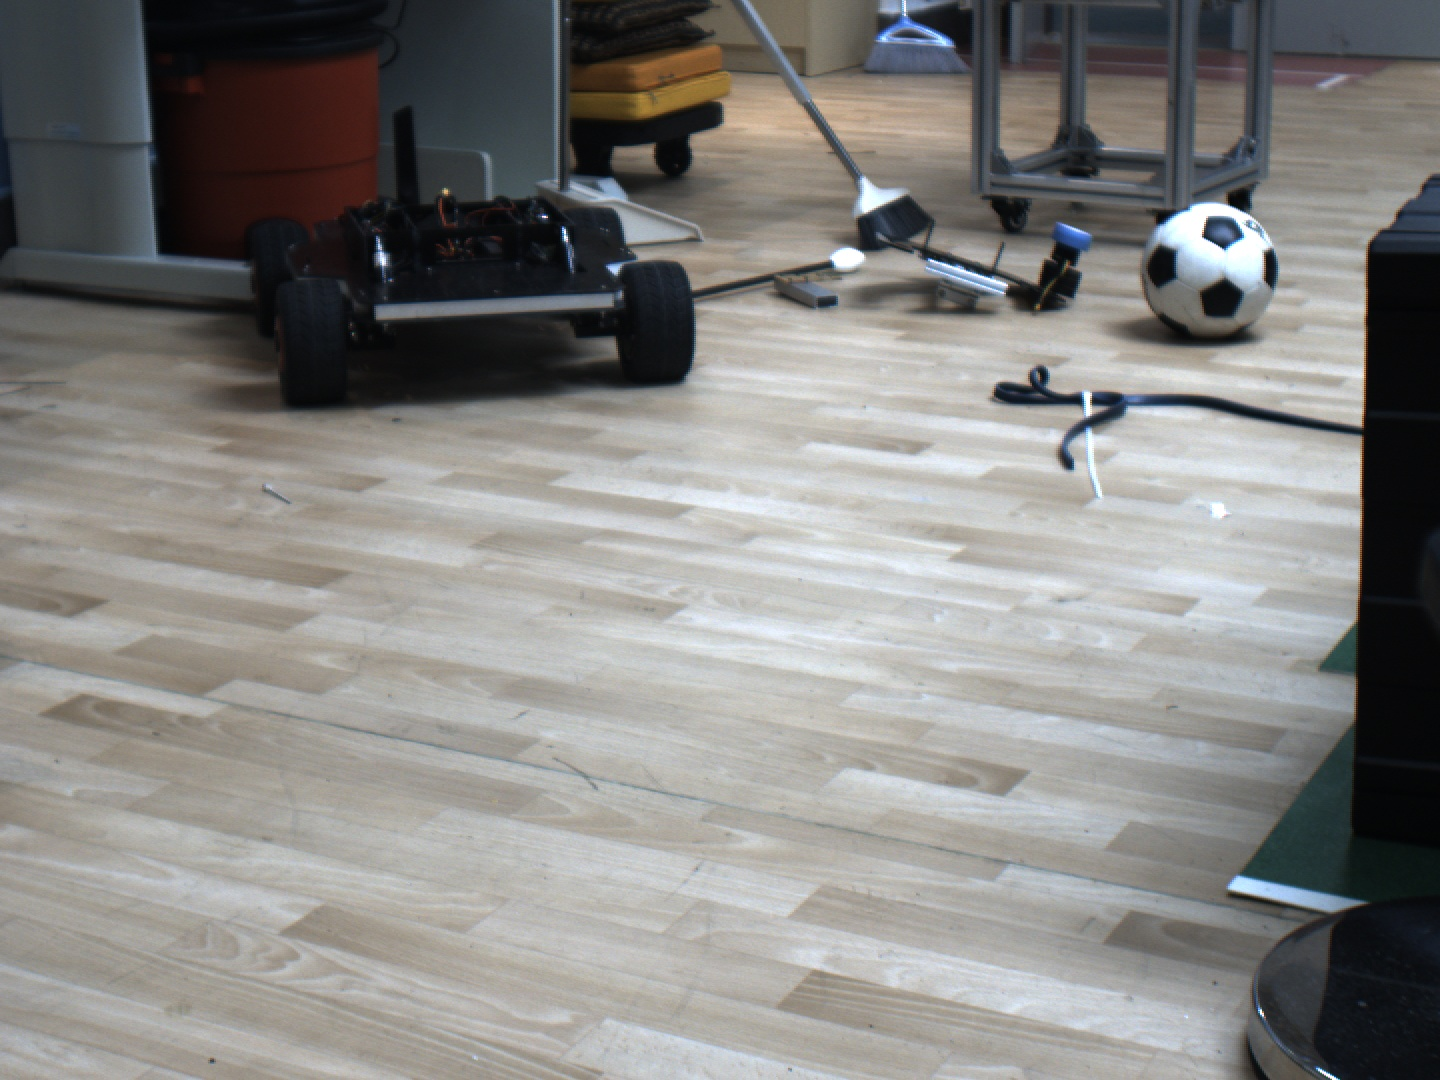ball: (1121, 171, 1311, 354)
